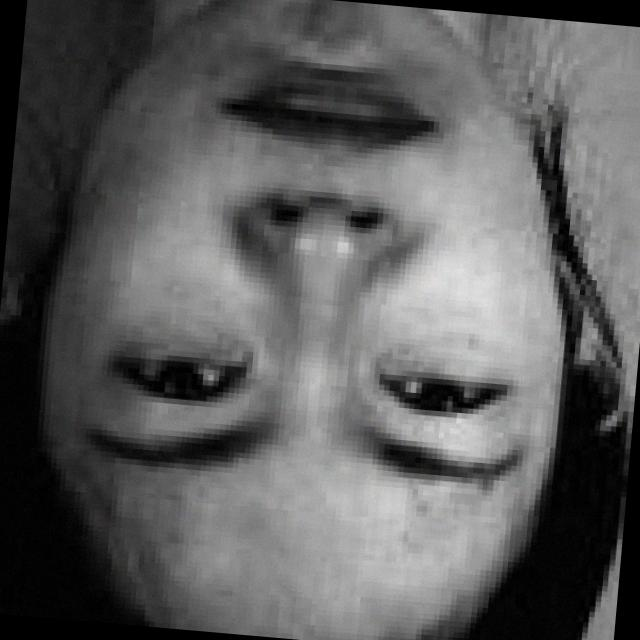disgust: (48, 0, 587, 610)
